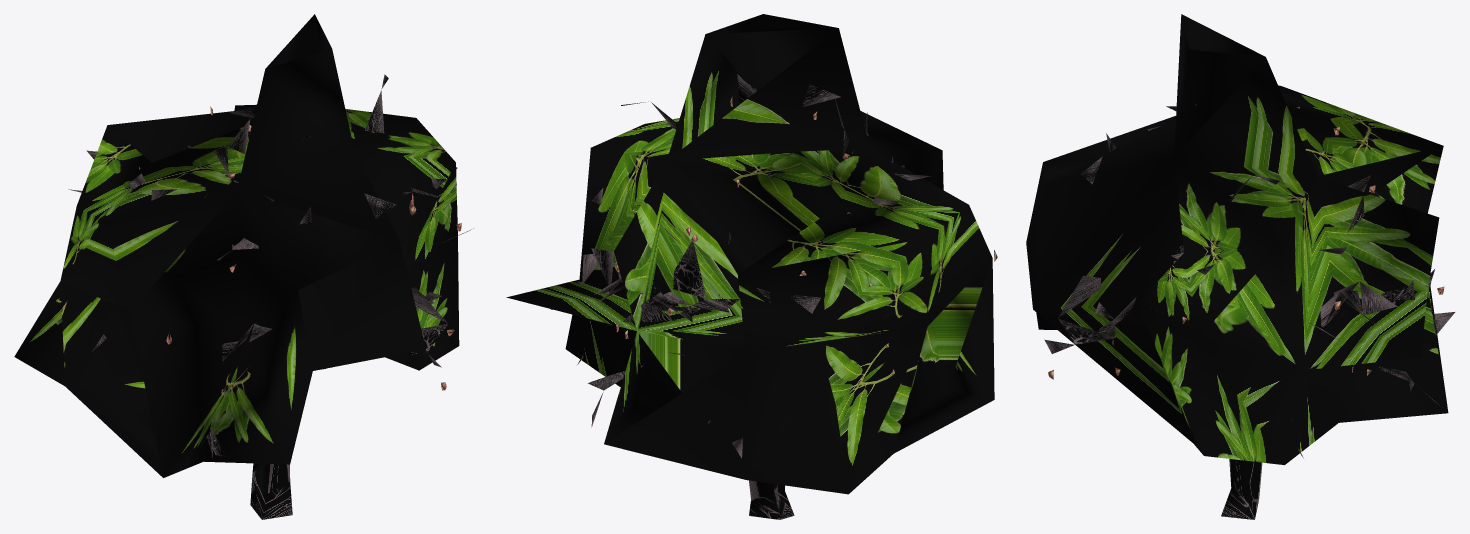
The model's file is mango_tree.glb.
3 views of the same model, side by side, from view 1: azimuth 30°, elevation 25°; view 2: azimuth 150°, elevation 25°; view 3: azimuth 270°, elevation 25° (orthographic).
Parts seen in each view (by area): view 1: leaves_Material.001_0, tree_Material.002_0; view 2: leaves_Material.001_0, tree_Material.002_0; view 3: leaves_Material.001_0, tree_Material.002_0.
Part boxes in pixels (box(x1,y1,x2,y2)): leaves_Material.001_0: box(14, 14, 459, 477); tree_Material.002_0: box(68, 74, 473, 519); leaves_Material.001_0: box(506, 14, 994, 494); tree_Material.002_0: box(577, 74, 931, 519); leaves_Material.001_0: box(1026, 14, 1448, 465); tree_Material.002_0: box(1044, 104, 1455, 519).
Bounding box in the file's own units: 5.34 × 6.6 × 5.32.
3 materials, 3 textured.
